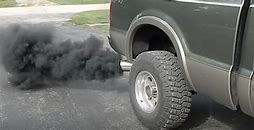smoke: (1, 25, 120, 90)
